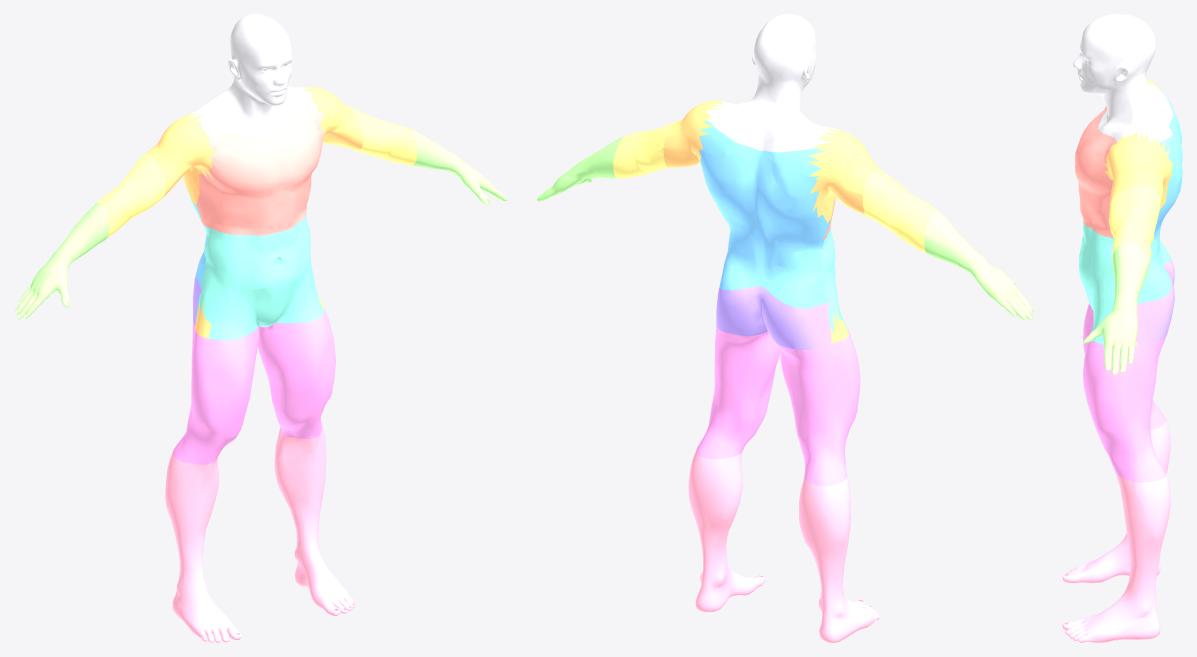
3 views of the same model, side by side, from view 1: azimuth 30°, elevation 25°; view 2: azimuth 150°, elevation 25°; view 3: azimuth 270°, elevation 25° (orthographic).
Parts seen in each view (by area): view 1: region_thighs, region_calves, region_chest, region_abdomen, region_neck, region_shoulders, region_forearms, region_upper_arms; view 2: region_back, region_thighs, region_calves, region_neck, region_shoulders, region_upper_arms, region_forearms, region_glutes, region_abdomen; view 3: region_calves, region_neck, region_thighs, region_forearms, region_chest, region_shoulders, region_upper_arms, region_back, region_abdomen, region_glutes.
Boxes of the visible parts, x1,y1,x2,y2 form: region_thighs: [173, 308, 335, 464]; region_calves: [165, 427, 355, 642]; region_chest: [196, 104, 324, 235]; region_abdomen: [196, 213, 323, 340]; region_neck: [184, 14, 314, 138]; region_shoulders: [145, 86, 363, 338]; region_forearms: [14, 128, 507, 319]; region_upper_arms: [96, 106, 417, 239]; region_back: [699, 121, 830, 308]; region_thighs: [696, 325, 860, 486]; region_calves: [688, 449, 879, 642]; region_neck: [706, 14, 839, 152]; region_shoulders: [663, 100, 883, 343]; region_upper_arms: [613, 122, 938, 253]; region_forearms: [536, 136, 1033, 320]; region_glutes: [716, 286, 831, 349]; region_abdomen: [820, 228, 848, 335]; region_calves: [1062, 420, 1170, 642]; region_neck: [1073, 14, 1173, 143]; region_thighs: [1083, 303, 1166, 482]; region_forearms: [1083, 243, 1149, 374]; region_chest: [1075, 105, 1116, 238]; region_shoulders: [1105, 79, 1173, 345]; region_upper_arms: [1109, 184, 1160, 264]; region_back: [1137, 89, 1182, 303]; region_abdomen: [1078, 219, 1114, 344]; region_glutes: [1136, 260, 1174, 344].
Size of the model in its own units: 1.59 by 1.83 by 0.3387.
